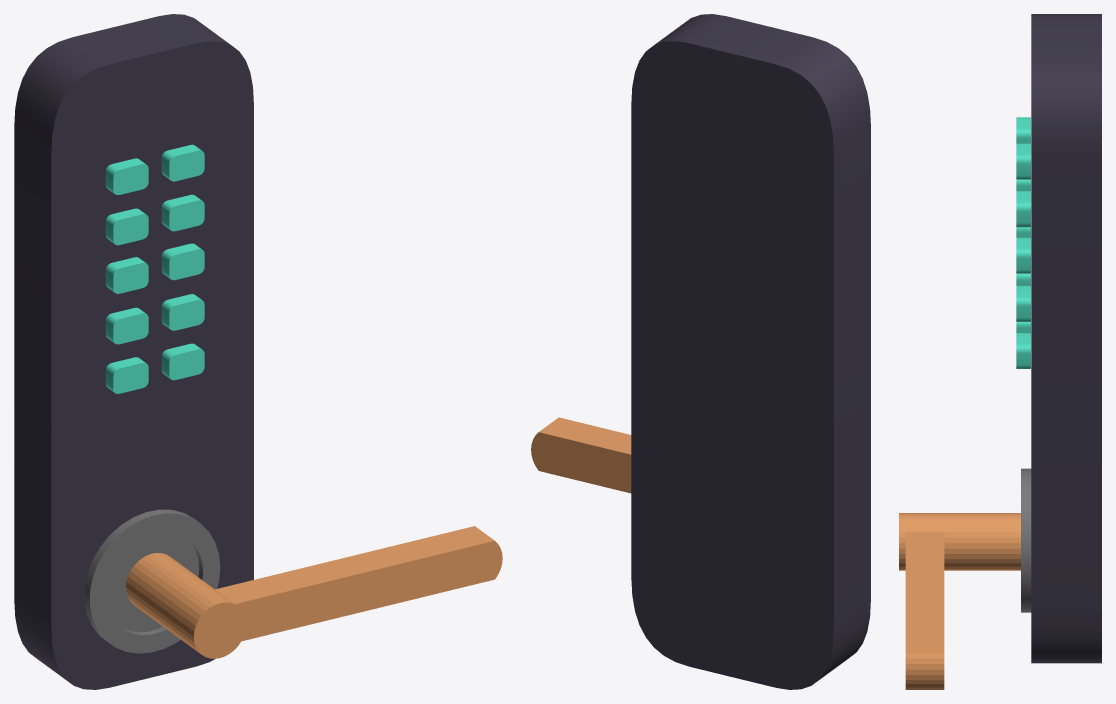
File: HandCode.fbx
3 renders of one model, left to right at view 1: azimuth 30°, elevation 25°; view 2: azimuth 150°, elevation 25°; view 3: azimuth 270°, elevation 25°, orthographic. The views are drawn at different scales.
Visible parts, largest first — view 1: KeypadBase, Cylinder.001, HandleHolder, Button007, Button008, Button002, Button004, Button005, Button009, Button006, Button003, Button001 (+1 smaller); view 2: KeypadBase, Cylinder.001; view 3: KeypadBase, Cylinder.001, HandleHolder, Button002, Button004, Button006, Button008, Button010, Button001.
Part boxes in pixels (<box>): KeypadBase: <box>14,14,253,689</box>; Cylinder.001: <box>126,526,502,658</box>; HandleHolder: <box>84,509,220,653</box>; Button007: <box>105,307,148,344</box>; Button008: <box>161,294,204,330</box>; Button002: <box>161,144,204,181</box>; Button004: <box>161,194,204,231</box>; Button005: <box>105,257,148,293</box>; Button009: <box>105,357,148,393</box>; Button006: <box>161,243,204,280</box>; Button003: <box>105,208,148,245</box>; Button001: <box>105,158,148,194</box>; KeypadBase: <box>631,14,870,689</box>; Cylinder.001: <box>531,417,631,493</box>; KeypadBase: <box>1031,14,1101,663</box>; Cylinder.001: <box>899,513,1020,689</box>; HandleHolder: <box>1021,468,1031,612</box>; Button002: <box>1016,143,1030,179</box>; Button004: <box>1016,191,1030,227</box>; Button006: <box>1016,237,1030,273</box>; Button008: <box>1016,286,1030,321</box>; Button010: <box>1016,333,1030,368</box>; Button001: <box>1016,117,1030,143</box>.
Bounding box in the file's own units: 5580 × 8621 × 2666.
